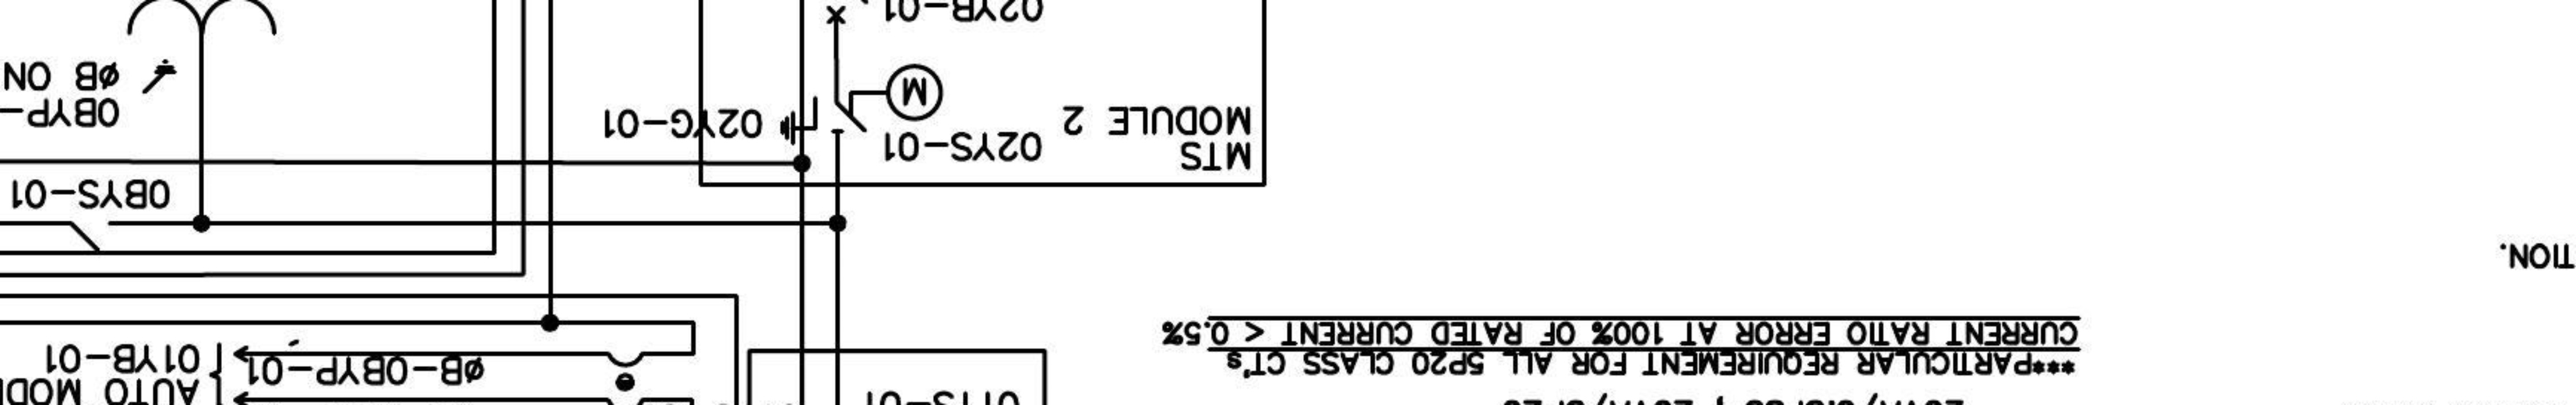115_3ways_ds_w_motor: (779, 62, 945, 148)
115_ds: (69, 220, 113, 251)
